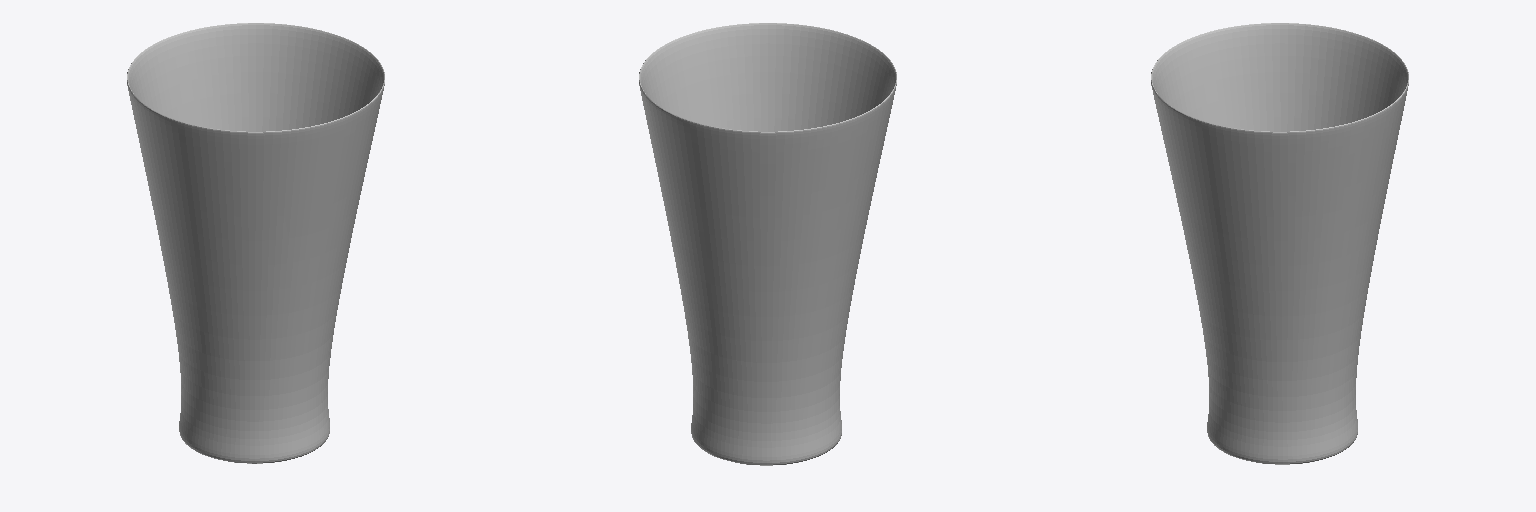
File: cocktail.obj
3 renders of one model, left to right at view 1: azimuth 30°, elevation 25°; view 2: azimuth 150°, elevation 25°; view 3: azimuth 270°, elevation 25°, orthographic.
Visible parts, largest first — view 1: Circle_Circle.015; view 2: Circle_Circle.015; view 3: Circle_Circle.015.
Boxes of the visible parts, <box> form: Circle_Circle.015: <box>127,23,384,463</box>; Circle_Circle.015: <box>639,23,896,465</box>; Circle_Circle.015: <box>1151,23,1408,464</box>.
Bounding box in the file's own units: 1.54 × 2.34 × 1.54.